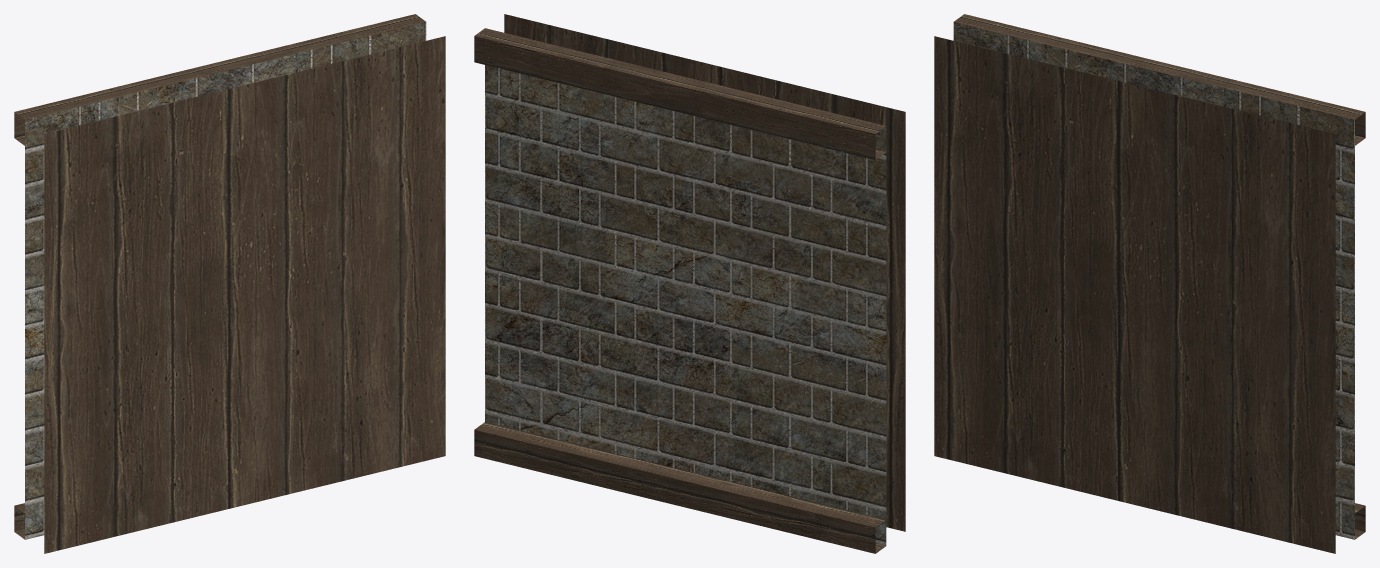
The model's file is ARC1010227.fbx.
3 renders of one model, left to right at view 1: azimuth 30°, elevation 25°; view 2: azimuth 150°, elevation 25°; view 3: azimuth 330°, elevation 25°, orthographic.
Parts seen in each view (by area): view 1: smARC1010227; view 2: smARC1010227; view 3: smARC1010227.
Part boxes in pixels (left/top/right/bottom): smARC1010227: left=14, top=14, right=445, bottom=553; smARC1010227: left=474, top=14, right=905, bottom=553; smARC1010227: left=934, top=14, right=1365, bottom=553.
Size of the model in its own units: 268 by 268 by 34.9.
Materials: 1 (1 with a texture image).
